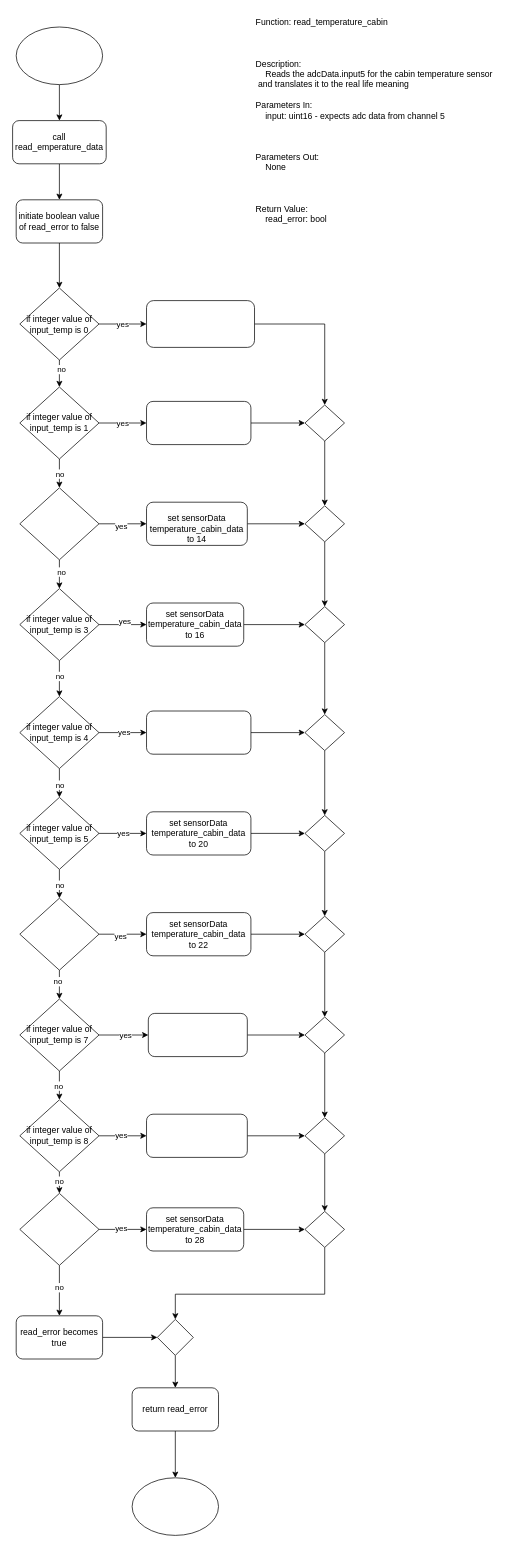
Image size: 519x1548. Some labels were removed from this diagram. The shapes that lost their labels are listed below. From the top down, each one's centre as x and y in pixels, then its label:
At [200,323]: "set sensorData temperature_cabin_data to 0".
At [198,423]: "set sensorData temperature_cabin_data to 8".
At [59,523]: "if integer value of input_temp is 2".
At [198,732]: "set sensorData temperature_cabin_data to 18".
At [59,933]: "if integer value of input_temp is 6".
At [197,1035]: "set sensorData temperature_cabin_data to 24".
At [196,1135]: "set sensorData temperature_cabin_data to 26".
At [59,1229]: "if integer value of input_temp is 9".
